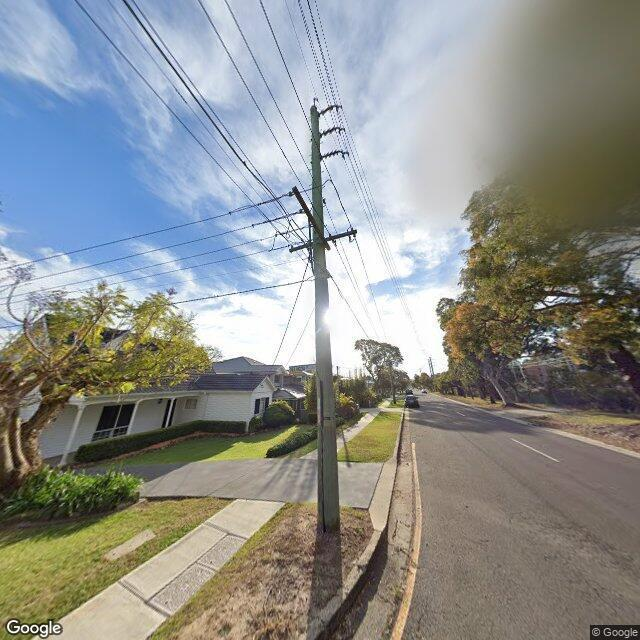HV-transmission: (313, 97, 349, 160)
crossarm: (292, 186, 331, 252), (289, 229, 358, 254)
timber-pole: (311, 105, 341, 531), (430, 357, 435, 392)
